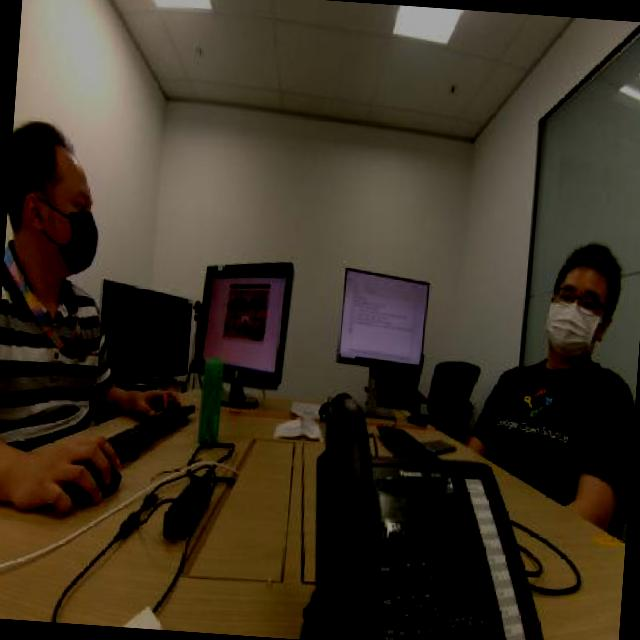Person: (0, 91, 134, 425), (483, 193, 639, 464)
